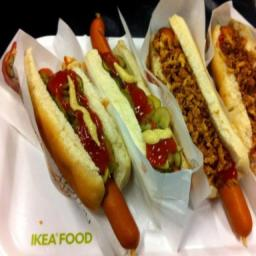hotdog: (100, 180, 140, 250), (219, 177, 253, 242), (90, 15, 114, 61), (155, 28, 179, 48), (222, 24, 235, 39)
